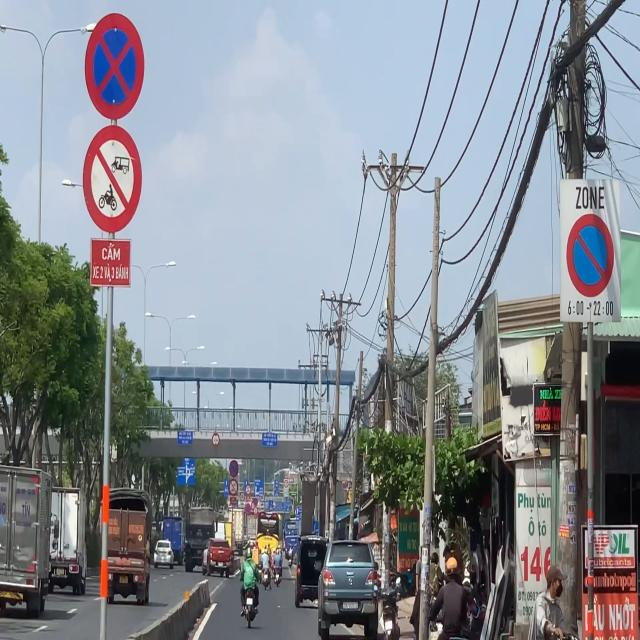Cam con lai: (82, 123, 144, 234)
Cam do: (566, 213, 614, 298)
Cam dung va do: (84, 12, 145, 120), (229, 460, 239, 478)
Chieu cao toi da: (212, 433, 219, 446)
